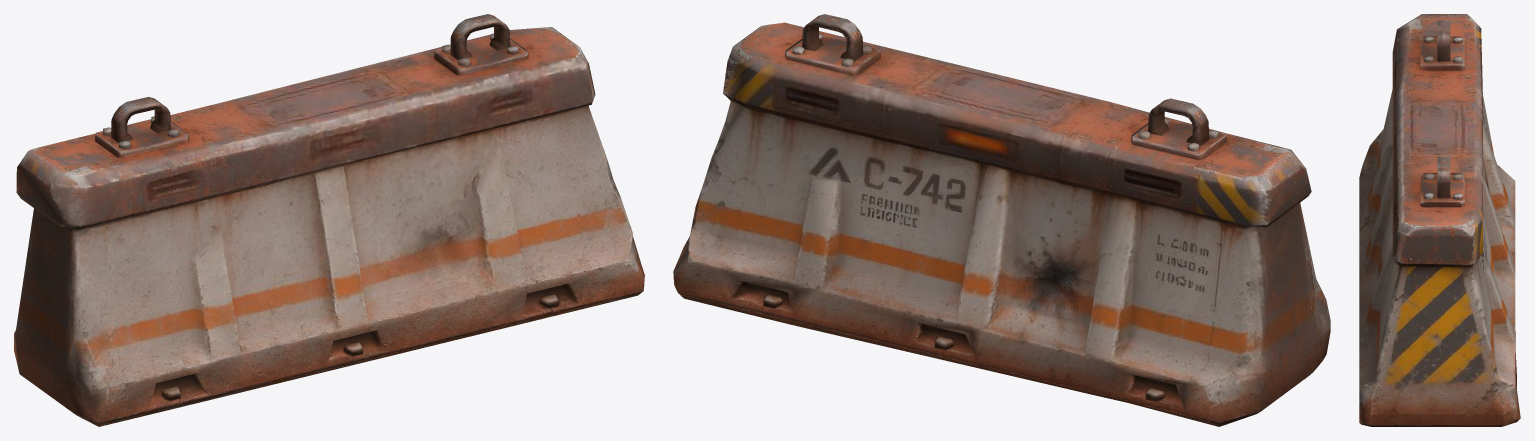
The model's file is barriere_01.glb.
3 views of the same model, side by side, from view 1: azimuth 30°, elevation 25°; view 2: azimuth 150°, elevation 25°; view 3: azimuth 270°, elevation 25° (orthographic). The views are drawn at different scales.
Visible parts, largest first — view 1: barriere_01; view 2: barriere_01; view 3: barriere_01.
Part boxes in pixels (x1,y1,x2,y2): barriere_01: (14, 14, 644, 426); barriere_01: (673, 14, 1330, 426); barriere_01: (1359, 14, 1520, 426).
Bounding box in the file's own units: 2 × 0.9 × 0.6.
1 material, 1 textured.
